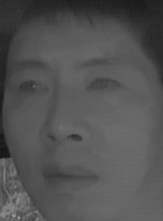eye: (83, 74, 123, 97), (14, 77, 53, 99)
mouth: (36, 156, 104, 195)
